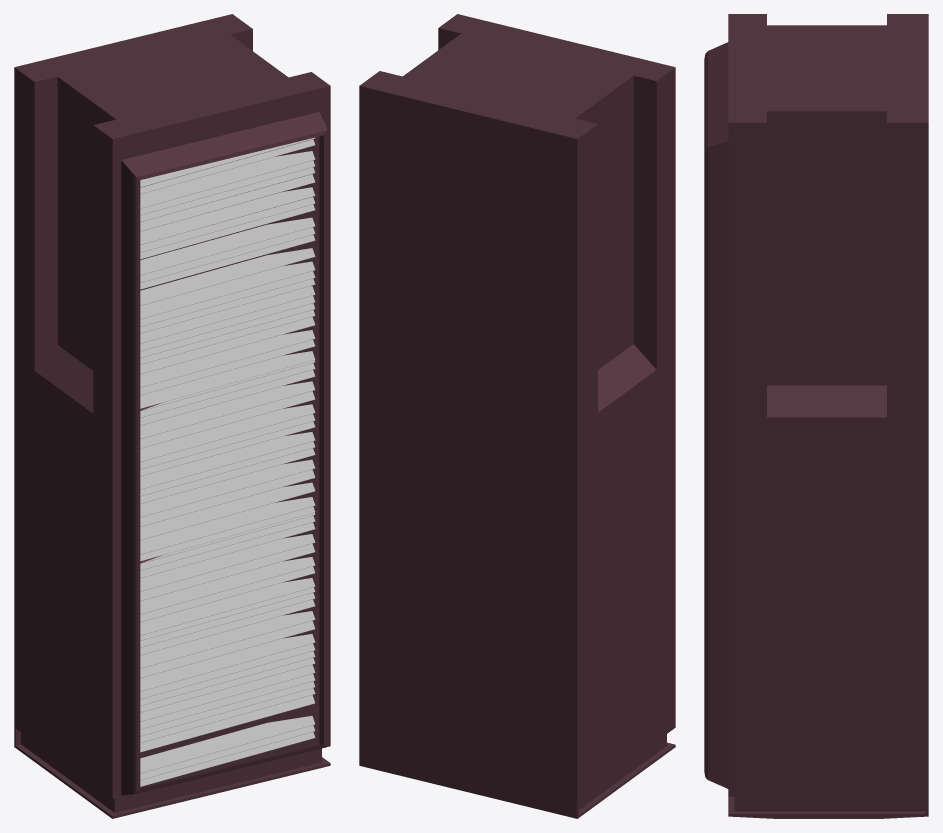
File: Conditioner.fbx
3 views of the same model, side by side, from view 1: azimuth 30°, elevation 25°; view 2: azimuth 150°, elevation 25°; view 3: azimuth 270°, elevation 25° (orthographic). The views are drawn at different scales.
Visible parts, largest first — view 1: FRAME PART.042; view 2: FRAME PART.042; view 3: FRAME PART.042.
Boxes of the visible parts, <box> form: FRAME PART.042: <box>14,14,330,818</box>; FRAME PART.042: <box>359,14,675,818</box>; FRAME PART.042: <box>704,14,928,818</box>.
Size of the model in its own units: 170 by 524 by 149.
